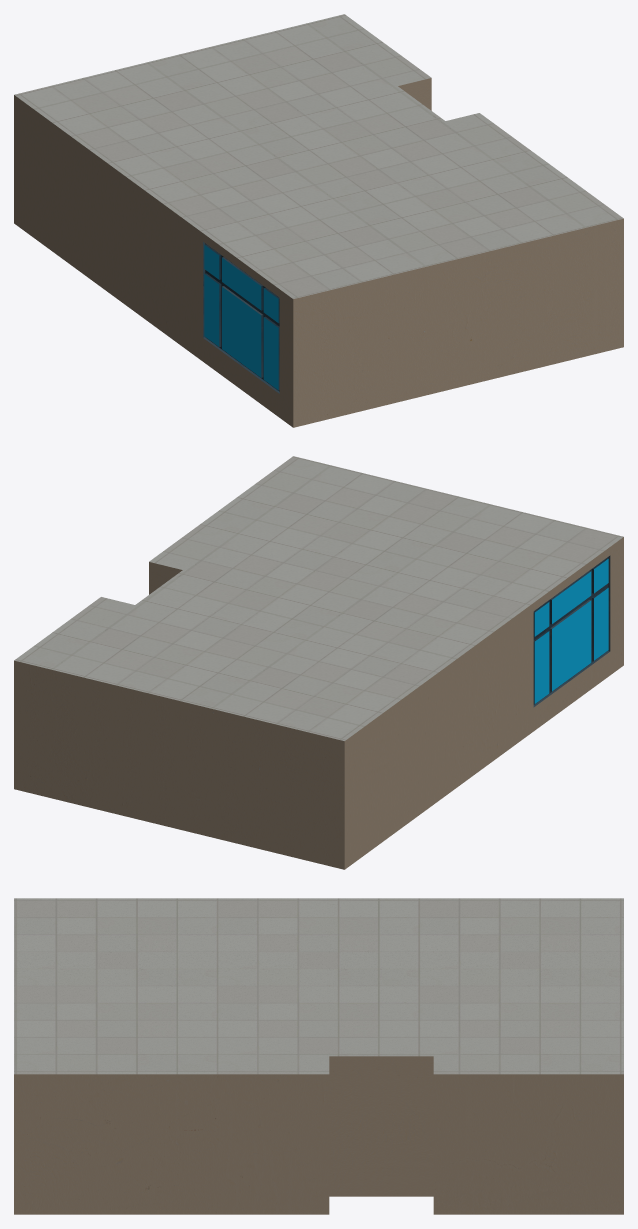
File: Labo_para_mapear.fbx
3 renders of one model, top to bottom at view 1: azimuth 30°, elevation 25°; view 2: azimuth 150°, elevation 25°; view 3: azimuth 270°, elevation 25°, orthographic. The views are drawn at different scales.
Parts seen in each view (by area): view 1: Techo, Paredes, Ventana; view 2: Techo, Paredes, Ventana; view 3: Techo, Paredes.
Part boxes in pixels (bbox=[...]): Techo: bbox=[14, 14, 623, 298]; Paredes: bbox=[14, 78, 623, 427]; Ventana: bbox=[203, 242, 279, 393]; Techo: bbox=[14, 456, 623, 740]; Paredes: bbox=[14, 537, 623, 869]; Ventana: bbox=[533, 555, 610, 707]; Techo: bbox=[14, 898, 623, 1074]; Paredes: bbox=[14, 1056, 623, 1214].
Size of the model in its own units: 1605 by 597 by 2348.
